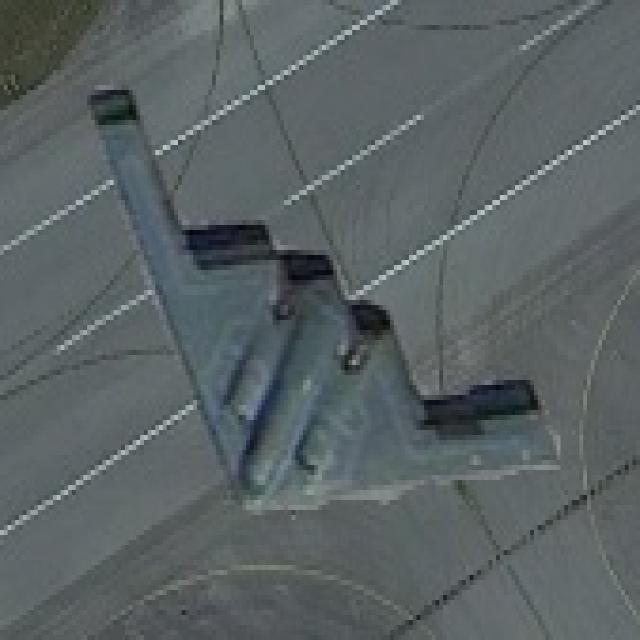B-2_TopDown: (80, 75, 560, 520)
